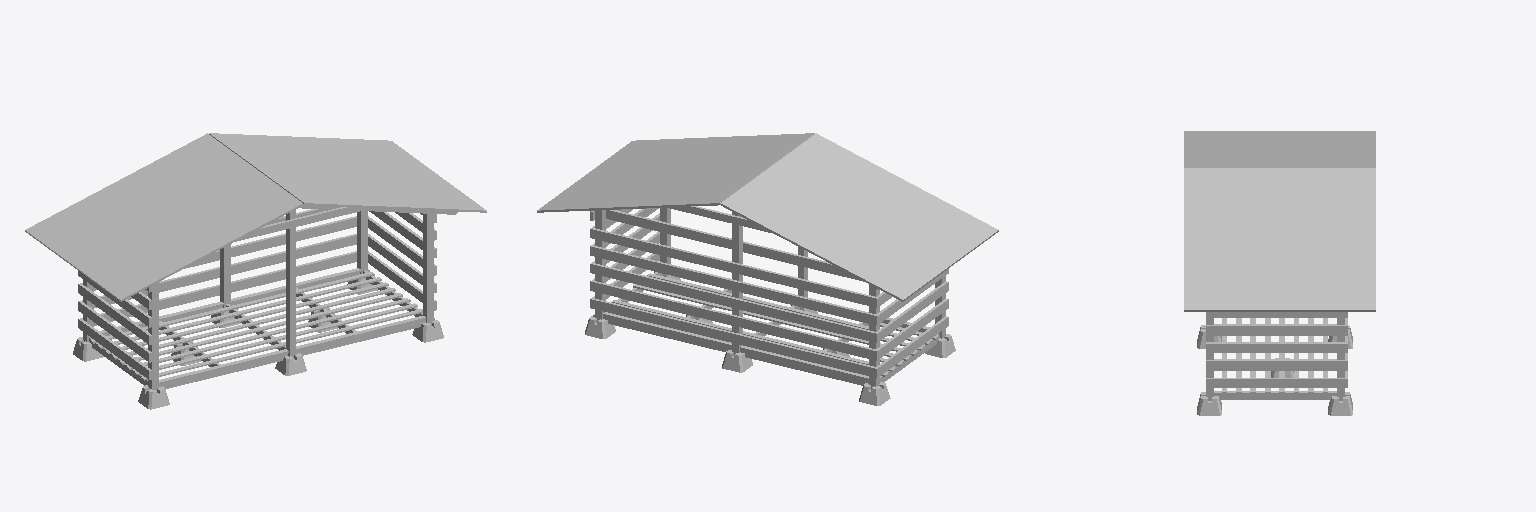
File: House.obj
3 views of the same model, side by side, from view 1: azimuth 30°, elevation 25°; view 2: azimuth 150°, elevation 25°; view 3: azimuth 270°, elevation 25° (orthographic).
Visible parts, largest first — view 1: Solid2:2, Solid2:1, Solid1:39, Solid1:40, Solid1:41, Solid1:30, Solid1:34, Solid1:19, Solid1:20, Solid1:21, Solid1:22, Solid1:23 (+20 smaller); view 2: Solid2:2, Solid2:1, Solid1:40, Solid1:42, Solid1:43, Solid1:39, Solid1:41, Solid1:44, Solid1:22, Solid3:7, Solid3:8, Solid3:6 (+9 smaller); view 3: Solid2:1, Solid2:2, Solid3:1, Solid3:2, Solid3:4, Solid3, Solid1:10, Solid3:3.
Part boxes in pixels (x1,y1,x2,y2): Solid2:2: (25, 133, 303, 301); Solid2:1: (209, 133, 486, 212); Solid1:39: (82, 251, 356, 325); Solid1:40: (82, 234, 356, 307); Solid1:41: (82, 216, 356, 290); Solid1:30: (286, 210, 295, 357); Solid1:34: (423, 214, 433, 325); Solid1:19: (141, 309, 422, 380); Solid1:20: (134, 303, 417, 374); Solid1:21: (127, 298, 410, 369); Solid1:22: (119, 293, 402, 364); Solid1:23: (112, 288, 395, 359); Solid2:2: (720, 133, 998, 301); Solid2:1: (537, 133, 814, 212); Solid1:40: (593, 281, 875, 359); Solid1:42: (593, 246, 875, 324); Solid1:43: (593, 228, 874, 306); Solid1:39: (593, 299, 875, 376); Solid1:41: (593, 263, 874, 341); Solid1:44: (606, 210, 863, 281); Solid1:22: (633, 284, 916, 355); Solid3:7: (874, 281, 948, 342); Solid3:8: (874, 299, 948, 360); Solid3:6: (874, 316, 948, 377); Solid2:1: (1184, 168, 1375, 311); Solid2:2: (1184, 131, 1375, 167); Solid3:1: (1206, 342, 1347, 352); Solid3:2: (1206, 360, 1347, 370); Solid3:4: (1206, 325, 1347, 335); Solid3: (1206, 378, 1347, 387); Solid1:10: (1214, 391, 1336, 399); Solid3:3: (1206, 312, 1347, 317).
Bounding box in the file's own units: 186 × 85.04 × 84.